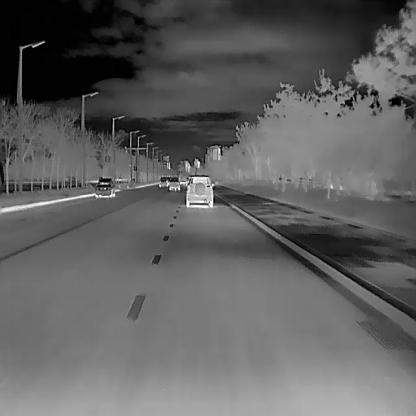car: (185, 174, 214, 207), (94, 176, 115, 197), (168, 180, 180, 190), (159, 176, 168, 187)
